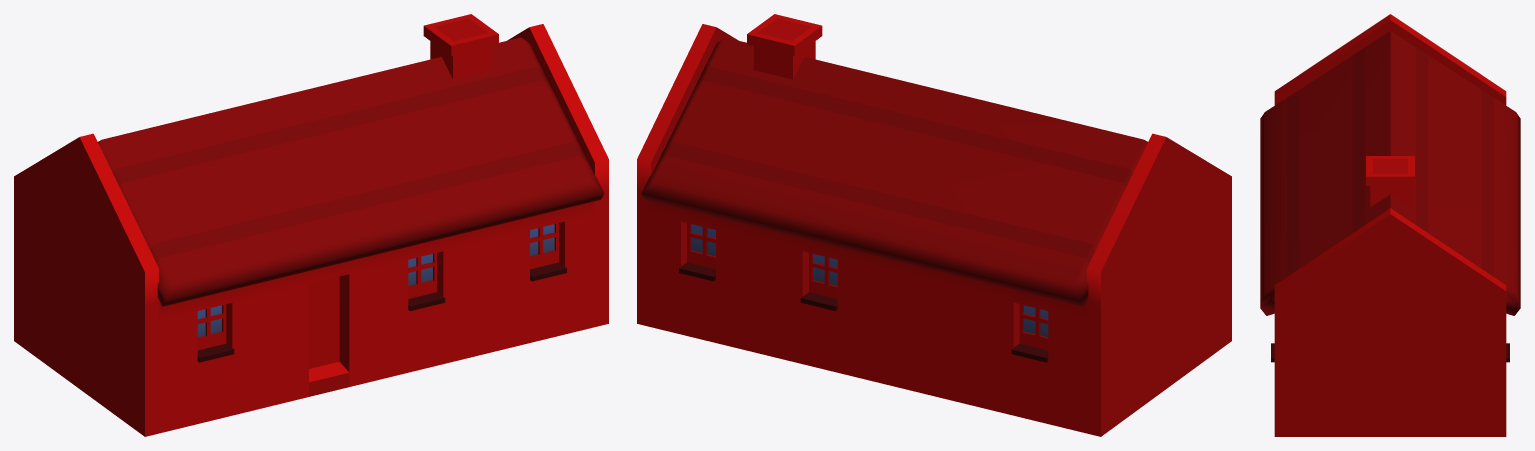
The model's file is buildings-farm-thatchedcottage_v3.fbx.
3 renders of one model, left to right at view 1: azimuth 30°, elevation 25°; view 2: azimuth 150°, elevation 25°; view 3: azimuth 270°, elevation 25°, orthographic. The views are drawn at different scales.
Visible parts, largest first — view 1: ThatchedCottage_v3_base, ThatchedCottage_v3_color, ThatchedCottage_v3_windowRefl; view 2: ThatchedCottage_v3_base, ThatchedCottage_v3_color, ThatchedCottage_v3_windowRefl; view 3: ThatchedCottage_v3_base.
Part boxes in pixels (<box>): ThatchedCottage_v3_base: <box>14,14,608,436</box>; ThatchedCottage_v3_color: <box>197,223,558,368</box>; ThatchedCottage_v3_windowRefl: <box>197,224,554,337</box>; ThatchedCottage_v3_base: <box>637,14,1231,436</box>; ThatchedCottage_v3_color: <box>687,223,1048,350</box>; ThatchedCottage_v3_windowRefl: <box>691,224,1048,337</box>; ThatchedCottage_v3_base: <box>1260,14,1520,436</box>.
Bounding box in the file's own units: 13.94 × 7.64 × 7.67.
